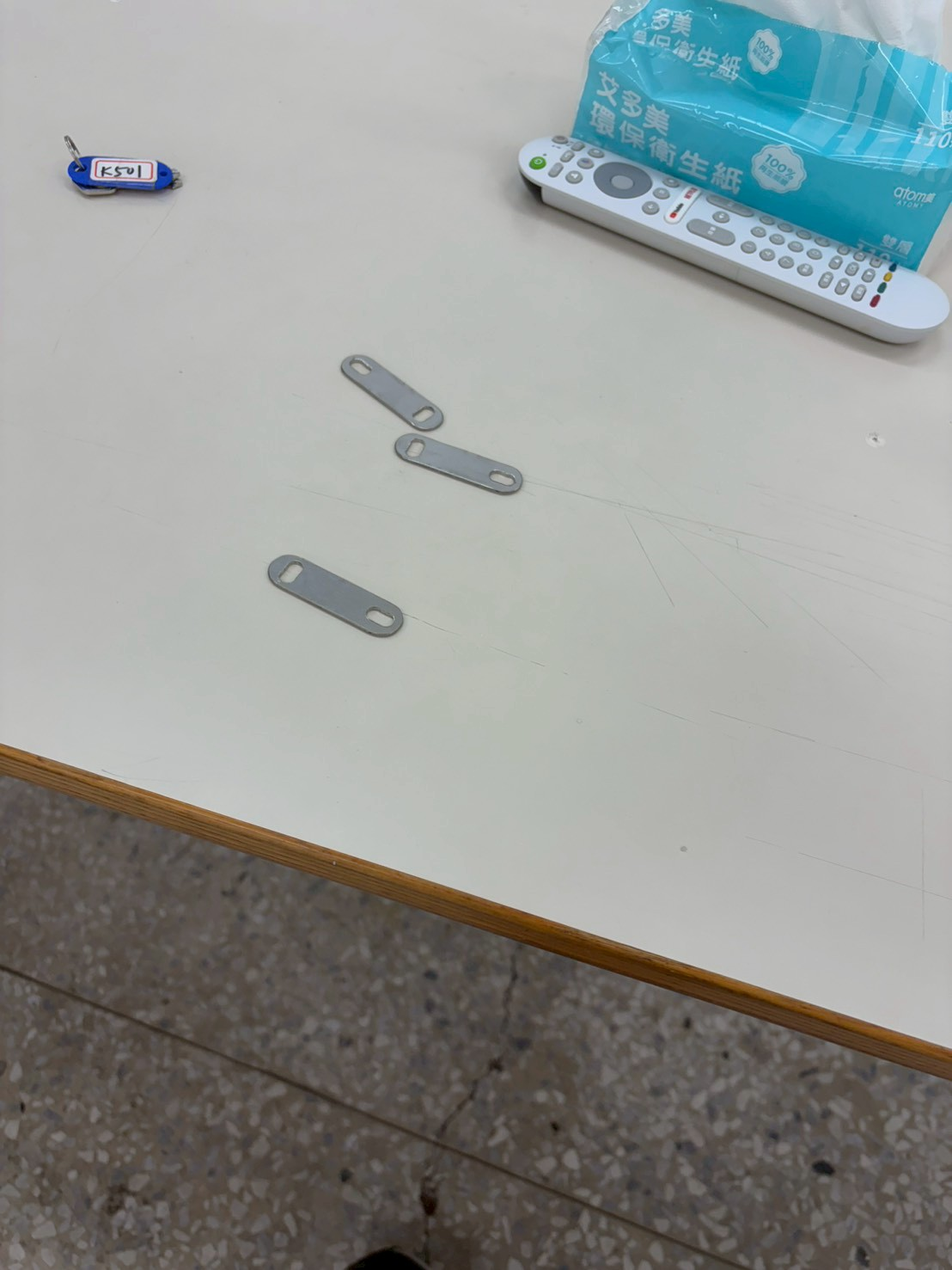Fe: (259, 549, 406, 640), (389, 430, 523, 502), (338, 345, 446, 428)
